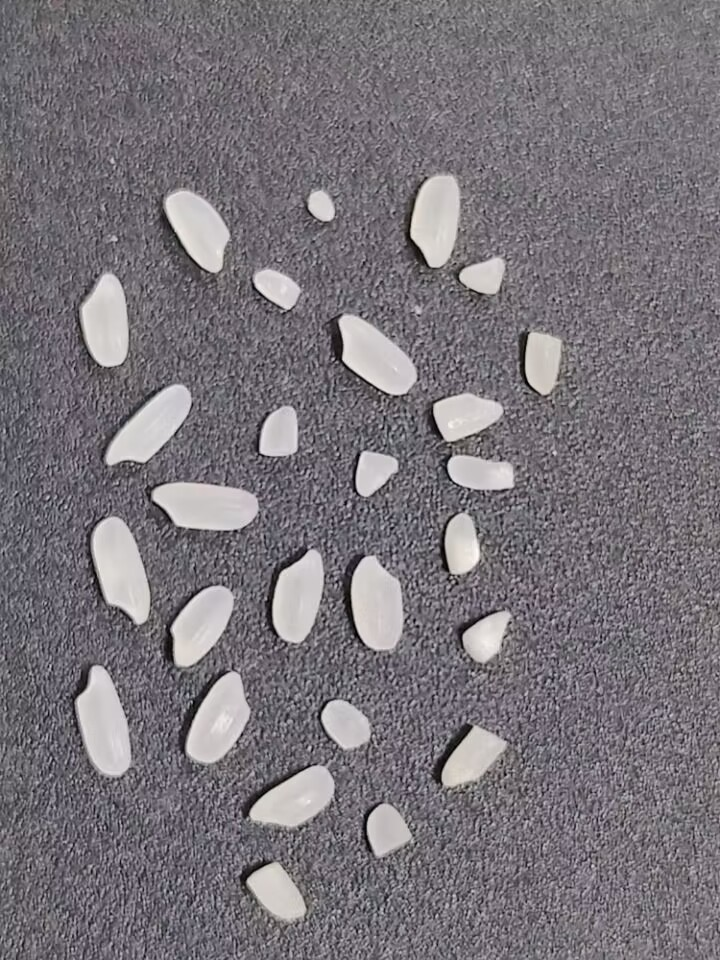broken: (440, 723, 508, 790), (244, 857, 307, 923), (431, 390, 503, 443), (459, 607, 513, 665), (319, 698, 372, 753), (366, 802, 414, 860), (447, 452, 515, 491), (442, 511, 481, 578), (524, 330, 562, 395), (257, 402, 300, 458), (352, 449, 401, 498), (457, 252, 508, 298), (252, 268, 302, 311), (305, 187, 338, 222)
rice: (101, 380, 194, 468), (88, 517, 153, 627), (73, 662, 134, 779), (160, 583, 239, 671), (335, 313, 417, 396), (183, 668, 252, 765), (163, 189, 232, 275), (349, 551, 406, 655), (247, 765, 338, 830), (149, 479, 260, 531), (270, 545, 326, 645), (407, 173, 462, 271), (79, 268, 130, 368)
